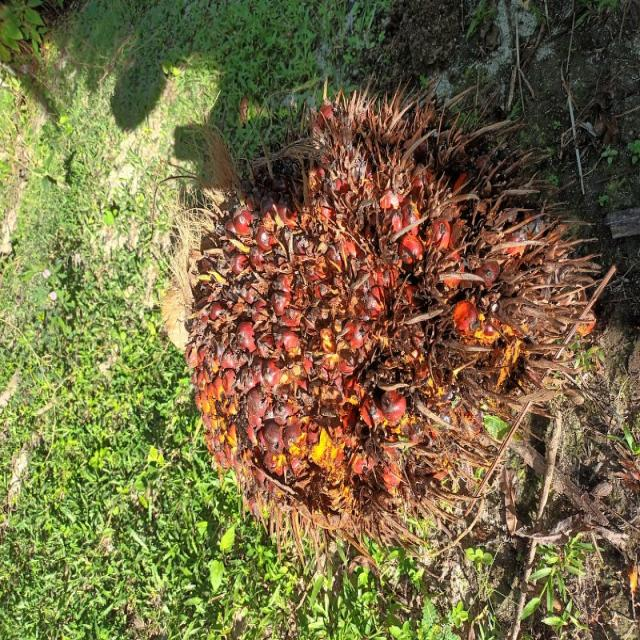fraksi 3: (43, 175, 408, 640)
